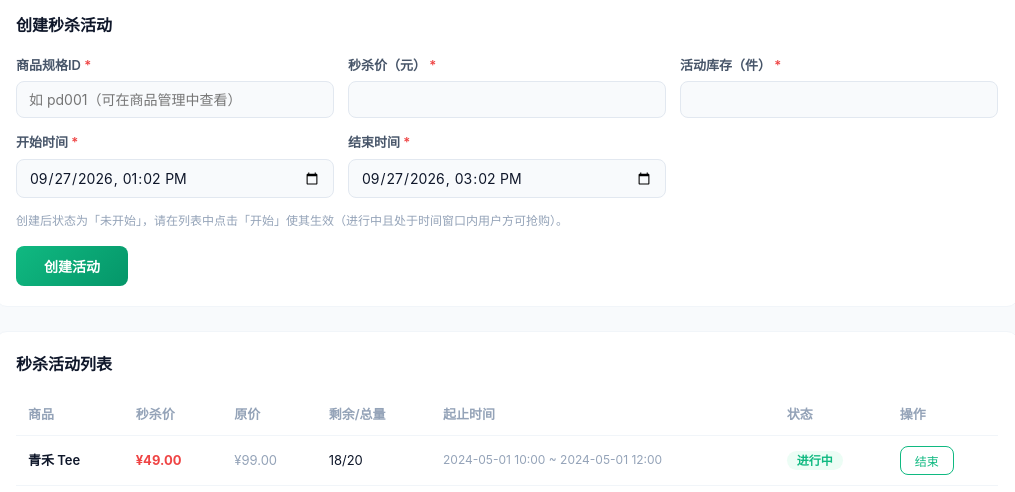
Test: admin/Seckill 秒杀管理 › 结束活动：ONGOING → CLOSED
The image size is (1015, 492).
Click the button with class "btn-toggle": (927, 460) [900, 446, 954, 475]
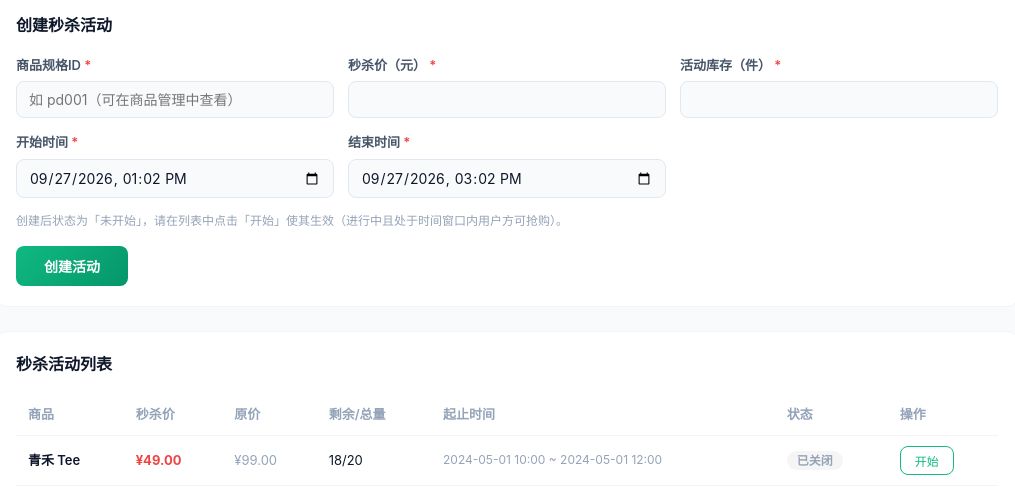
Expected: the text with class "badge" reads "已关闭", [797, 453, 833, 468]
Expected: the button with class "btn-toggle" reads "开始", [900, 446, 954, 475]
